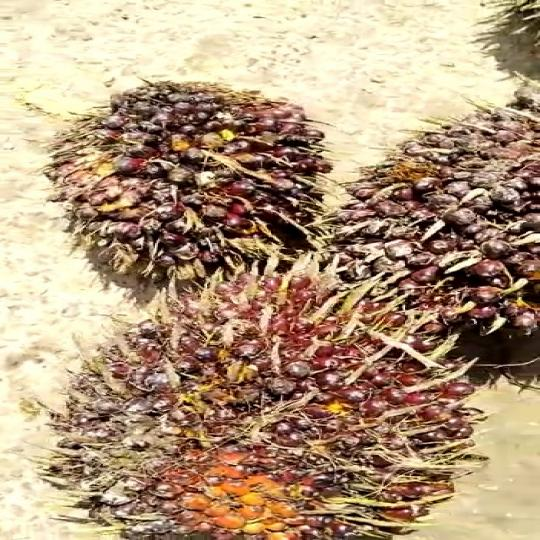kurang masak: (56, 263, 489, 540), (65, 80, 334, 295), (326, 93, 538, 362)
